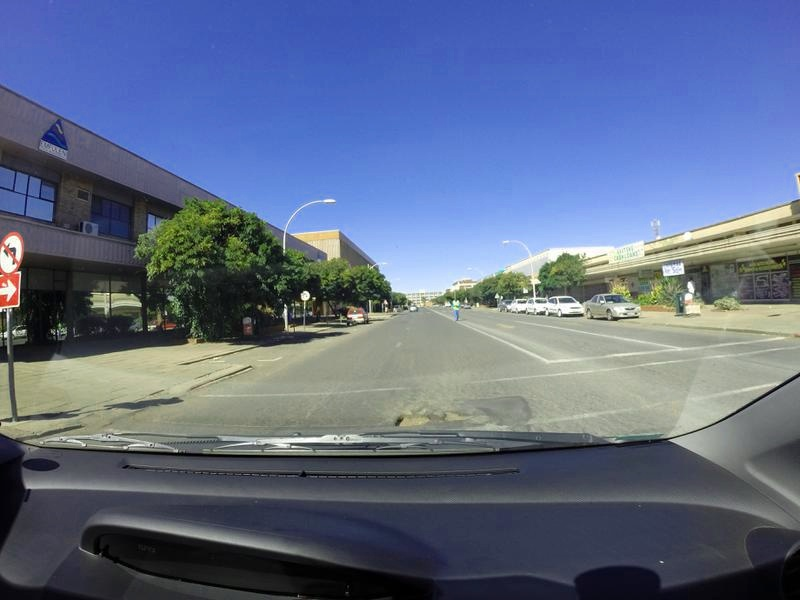pothole: (398, 406, 431, 425), (448, 405, 476, 421)
